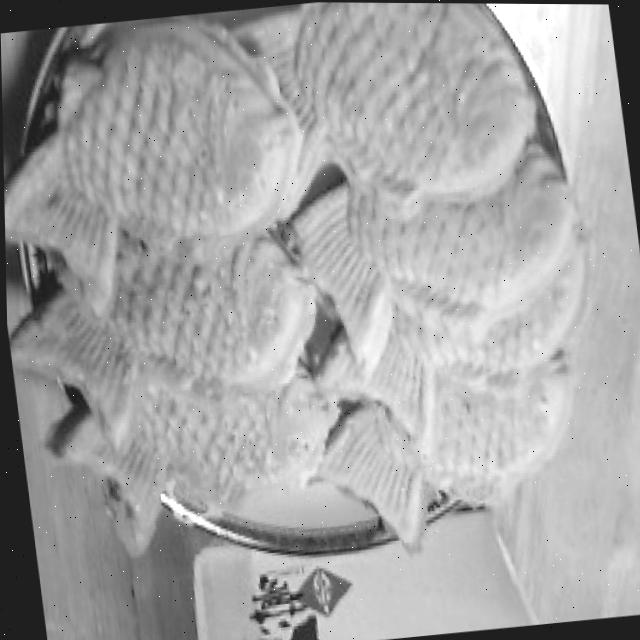熟制海鲜: (0, 0, 629, 584)
